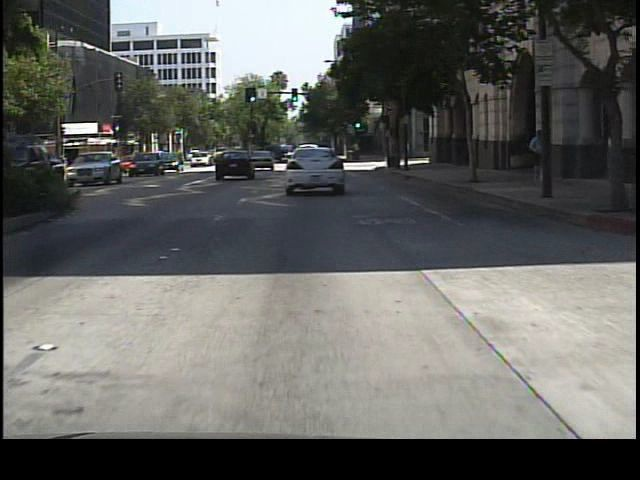person: (527, 127, 551, 191)
